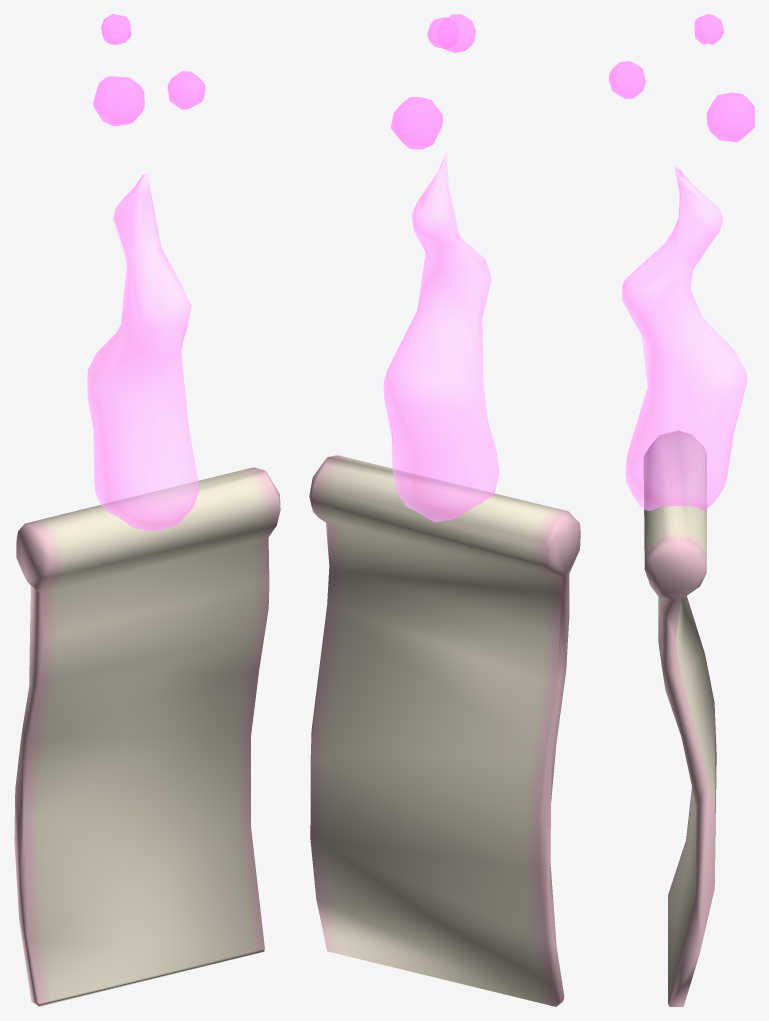
File: enchanter-scroll.glb
The picture shows the model from 3 angles, left to right: view 1: azimuth 30°, elevation 25°; view 2: azimuth 150°, elevation 25°; view 3: azimuth 270°, elevation 25°; orthographic projection. The views are drawn at different scales.
Visible parts, largest first — view 1: scroll, flame, sparks; view 2: scroll, flame, sparks; view 3: flame, scroll, sparks.
Part boxes in pixels (bbox=[...]): scroll: bbox=[14, 467, 280, 1006]; flame: bbox=[87, 172, 199, 531]; sparks: bbox=[93, 14, 205, 125]; scroll: bbox=[309, 455, 580, 1006]; flame: bbox=[383, 153, 499, 521]; sparks: bbox=[391, 14, 475, 149]; flame: bbox=[622, 166, 747, 511]; scroll: bbox=[644, 431, 716, 1006]; sparks: bbox=[609, 14, 754, 142].
Bounding box in the file's own units: 0.1676 × 0.6346 × 0.0901.
3 materials, 3 textured.
